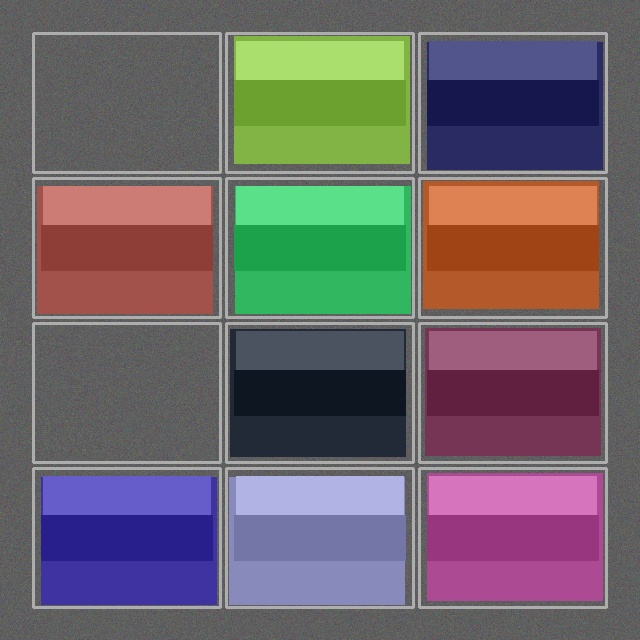space-empty: (35, 35, 218, 170), (35, 325, 218, 460)
space-occupied: (228, 35, 411, 170), (421, 35, 604, 170), (35, 180, 218, 315), (228, 180, 411, 315), (421, 180, 604, 315), (228, 325, 411, 460), (421, 325, 604, 460), (35, 470, 218, 605), (228, 470, 411, 605), (421, 470, 604, 605)
